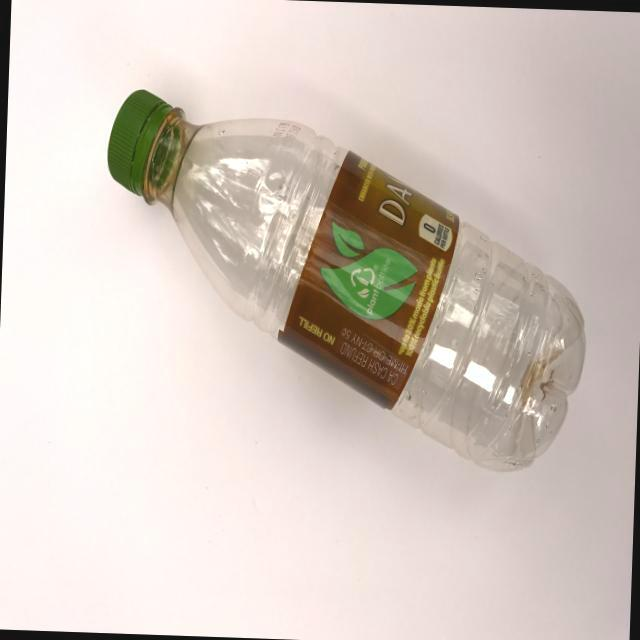plastic: (55, 80, 608, 489)
